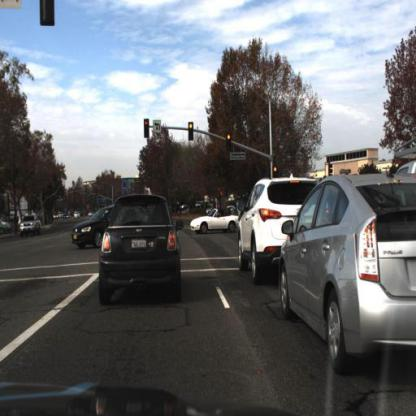car: (279, 172, 416, 377), (97, 194, 184, 311), (235, 171, 309, 285), (71, 204, 119, 250), (191, 207, 242, 237)
trafficLight: (273, 163, 280, 181)
trafficLight-Red: (225, 131, 234, 155), (188, 118, 196, 142)
trafficLight-RedLeft: (143, 118, 151, 143)
